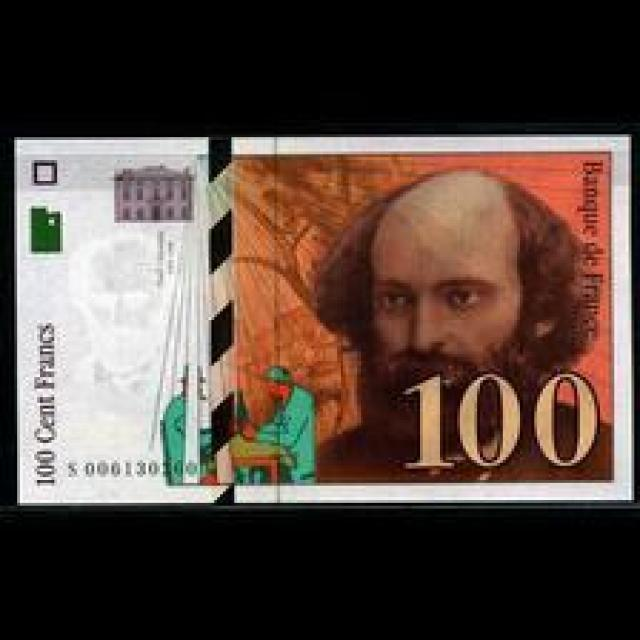banknote: (11, 136, 633, 504), (396, 364, 605, 479), (29, 446, 62, 490)
